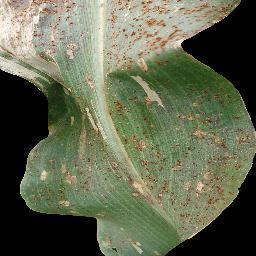Corn_Common_Rust: (103, 40, 184, 194), (186, 52, 256, 193), (91, 193, 240, 256), (1, 0, 85, 92), (42, 93, 102, 192), (102, 0, 241, 39), (19, 139, 42, 213), (43, 193, 92, 222), (85, 67, 96, 93)
